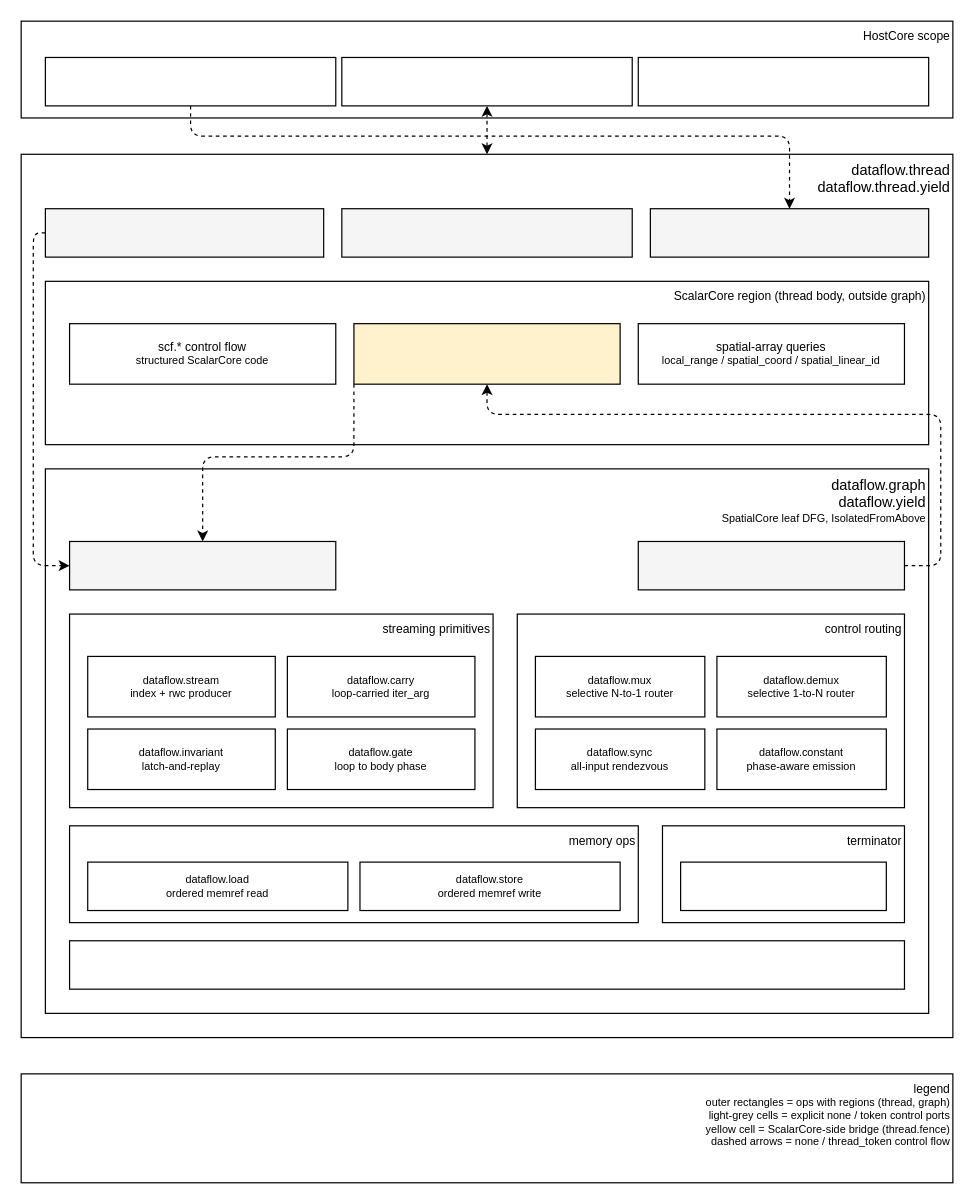
The diagram is 974 pixels wide and 1204 high, and some of its shapes have lost their labels. The centre of each missing label's shape, as x and y in pixels:
allowed pure compute arith.* / math.* / allowed LLVM (all-operand firing): the point at 486,964
body block args mapped/scalar operands unwrapped: the point at 789,232
ctrl_in : none graph start port: the point at 202,565
dataflow.map_info host/thread data boundary: the point at 190,81
dataflow.spatial_layout memref tile-and-mesh attribute: the point at 783,81
dataflow.thread.fence ScalarCore-side bridge: the point at 486,353
dataflow.thread.wait synchronize back to host: the point at 486,81
dataflow.yield done_out then user values: the point at 782,886
done_out : none graph completion token: the point at 770,565
grid block args : index one per mapping entry: the point at 486,232
thread_ctrl : none leading body block arg: the point at 184,232
